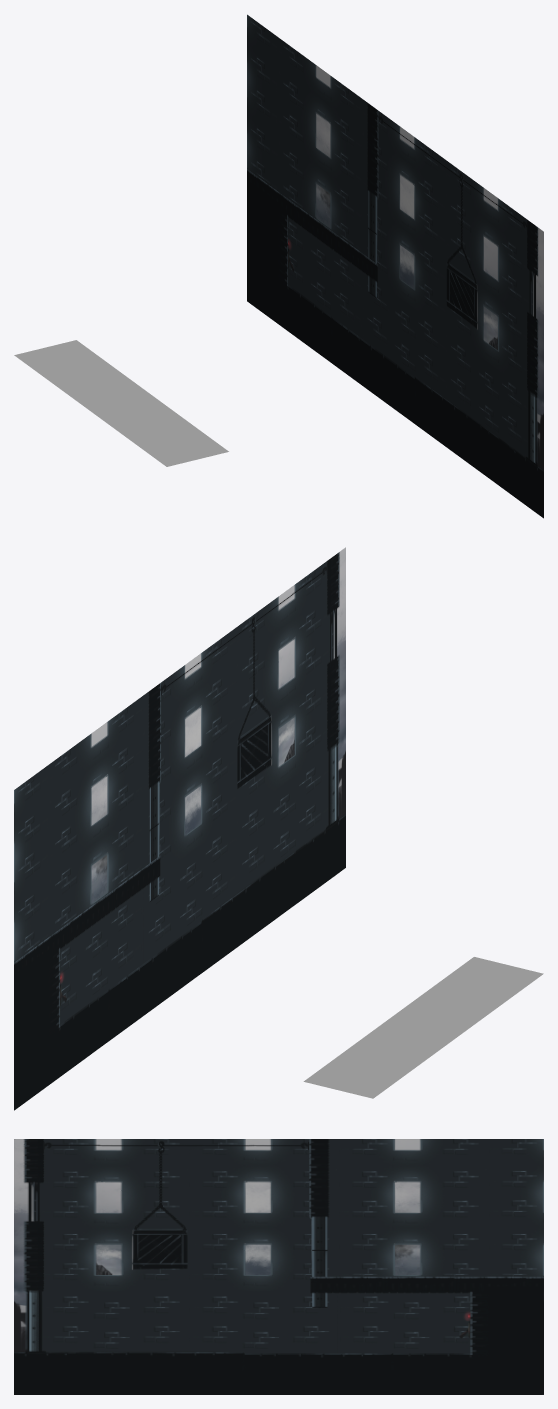
The model's file is Liting.fbx.
3 views of the same model, one above another, from view 1: azimuth 30°, elevation 25°; view 2: azimuth 150°, elevation 25°; view 3: azimuth 270°, elevation 25° (orthographic). The views are drawn at different scales.
Parts seen in each view (by area): view 1: pPlane4, pPlane3; view 2: pPlane4, pPlane3; view 3: pPlane4.
Part boxes in pixels (left/top/right/bottom): pPlane4: left=247, top=14, right=543, bottom=518; pPlane3: left=14, top=340, right=228, bottom=466; pPlane4: left=14, top=547, right=345, bottom=1110; pPlane3: left=303, top=957, right=543, bottom=1098; pPlane4: left=14, top=1139, right=543, bottom=1394.
Size of the model in its own units: 1136 by 1124 by 2110.
2 materials, 1 textured.
